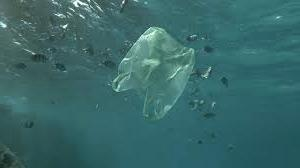Trash: (118, 15, 199, 124)
